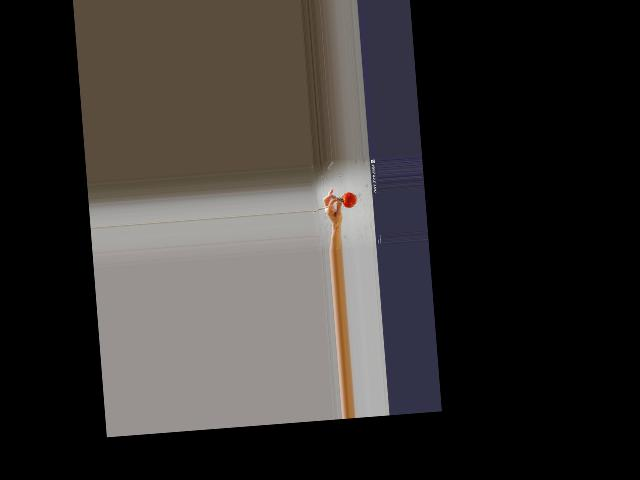tomato: (342, 192, 358, 209)
